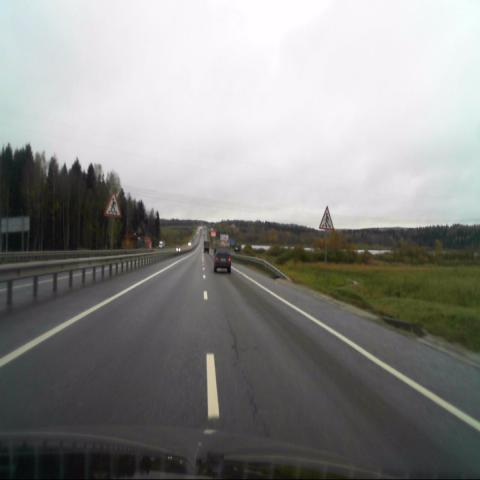1_22: (104, 190, 122, 218), (319, 206, 334, 230)
